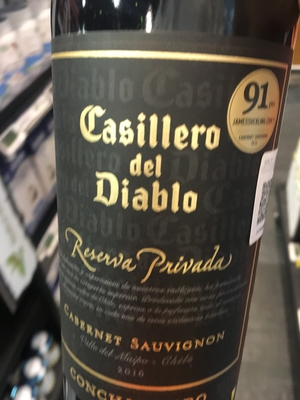casillero del diablo reserva privada cabernet sauvignon: (48, 2, 295, 400)
